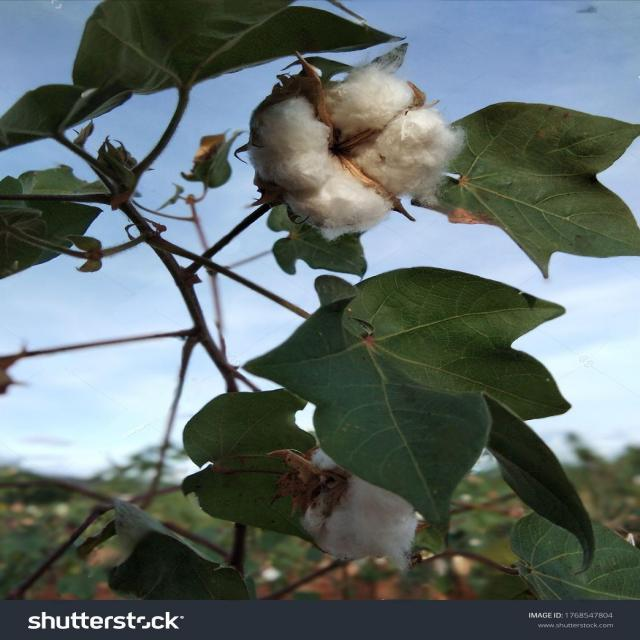Early_blight: (244, 56, 475, 237), (286, 441, 429, 568)
